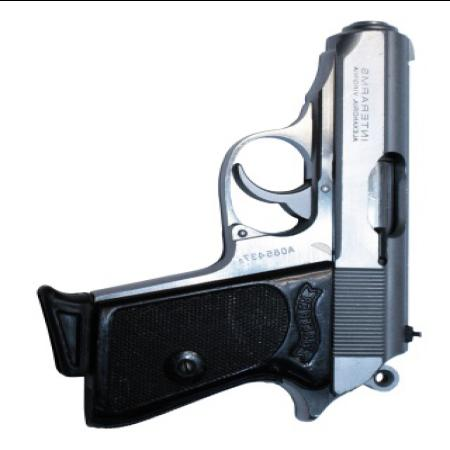Pistol: (39, 16, 419, 432)
